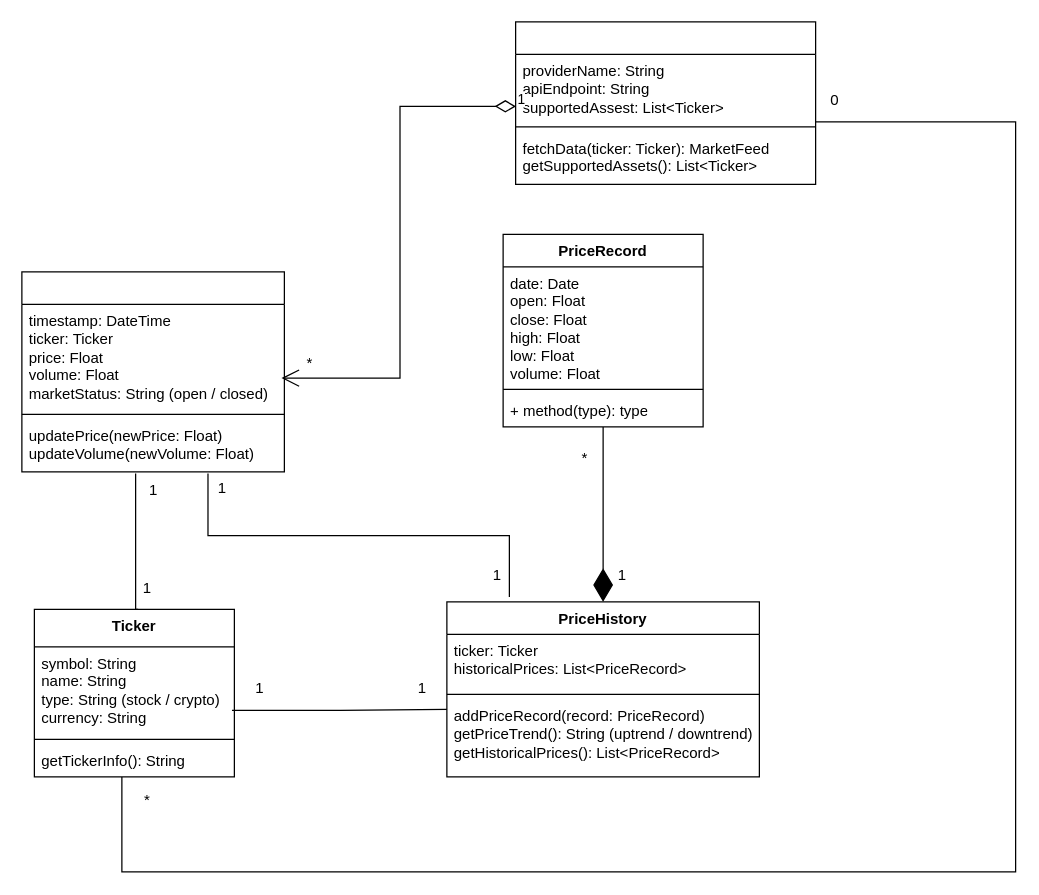
Image size: 1039x895. Some labels were removed from this diagram. Here are the shapes that lost their labels. From the top down, the box of each, then its label:
(514, 21, 816, 184): MarketDataProvider
(21, 271, 284, 472): MarketFeed
